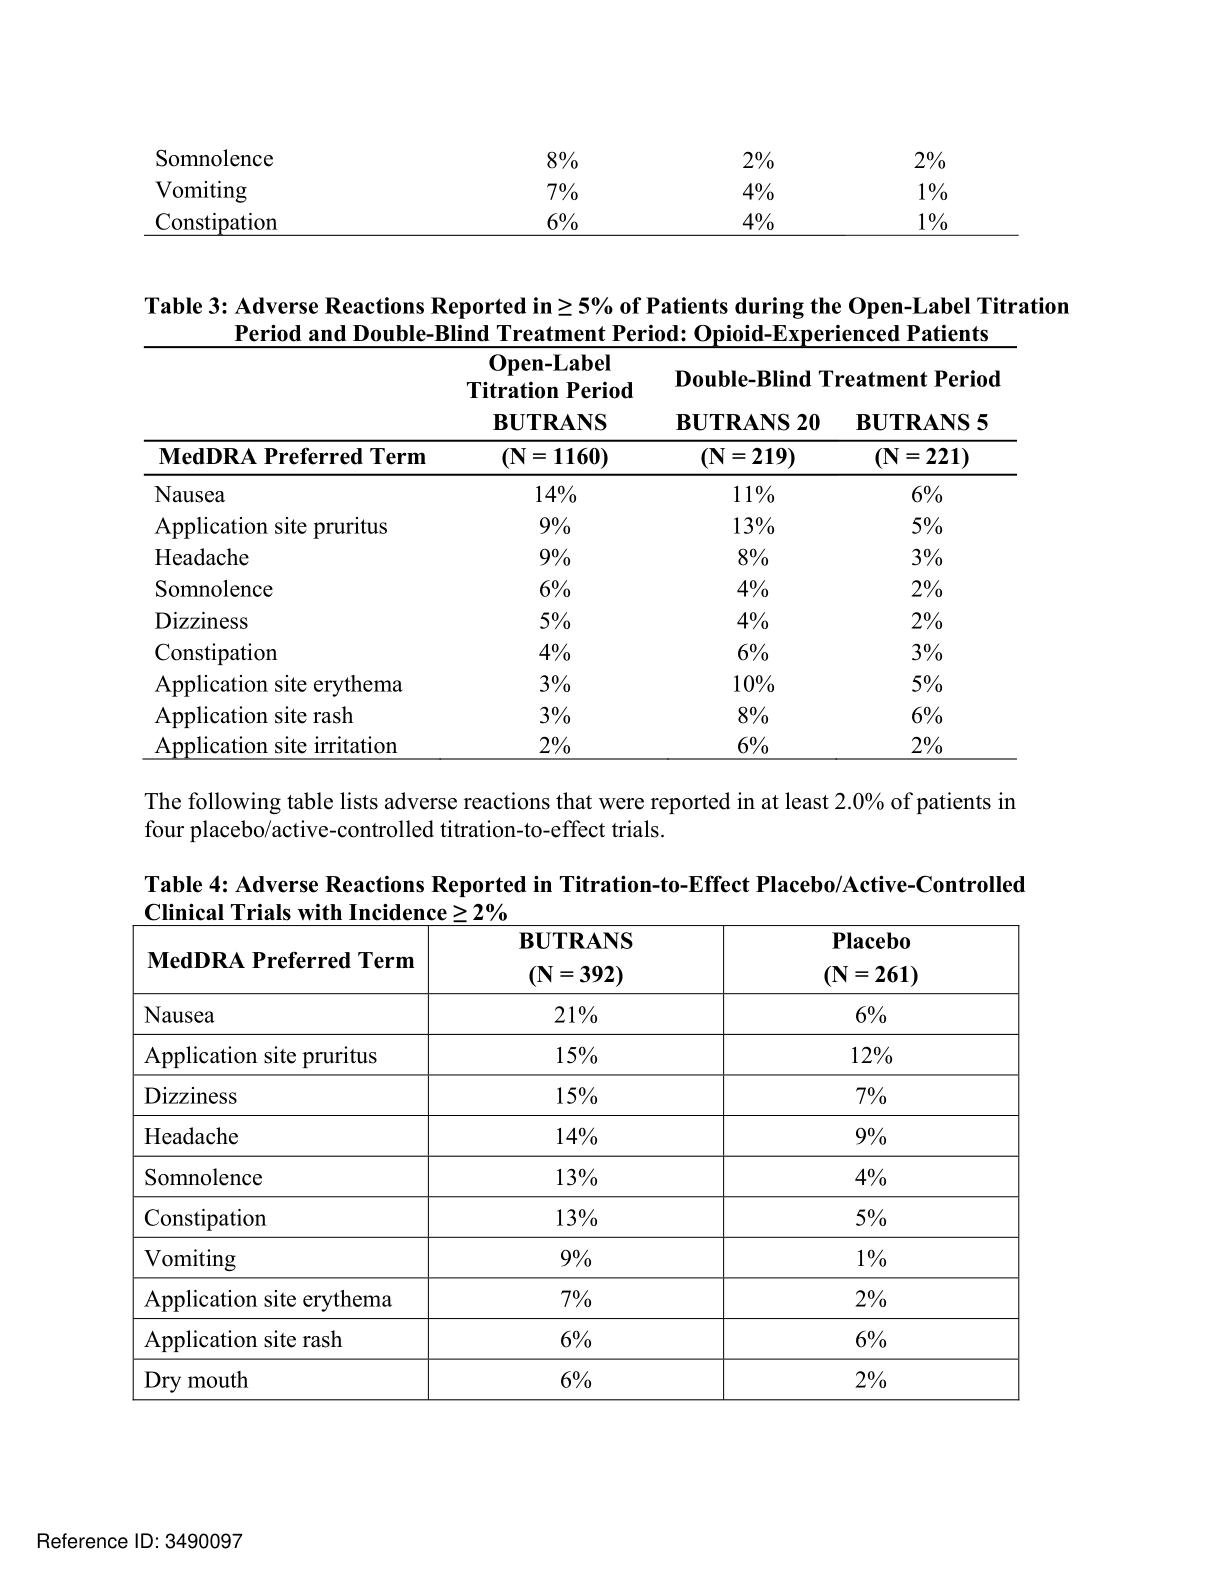full_lined: (132, 924, 1020, 1401)
nolines: (152, 141, 960, 234)
partial_lined_merged_cells: (143, 346, 1020, 760)
